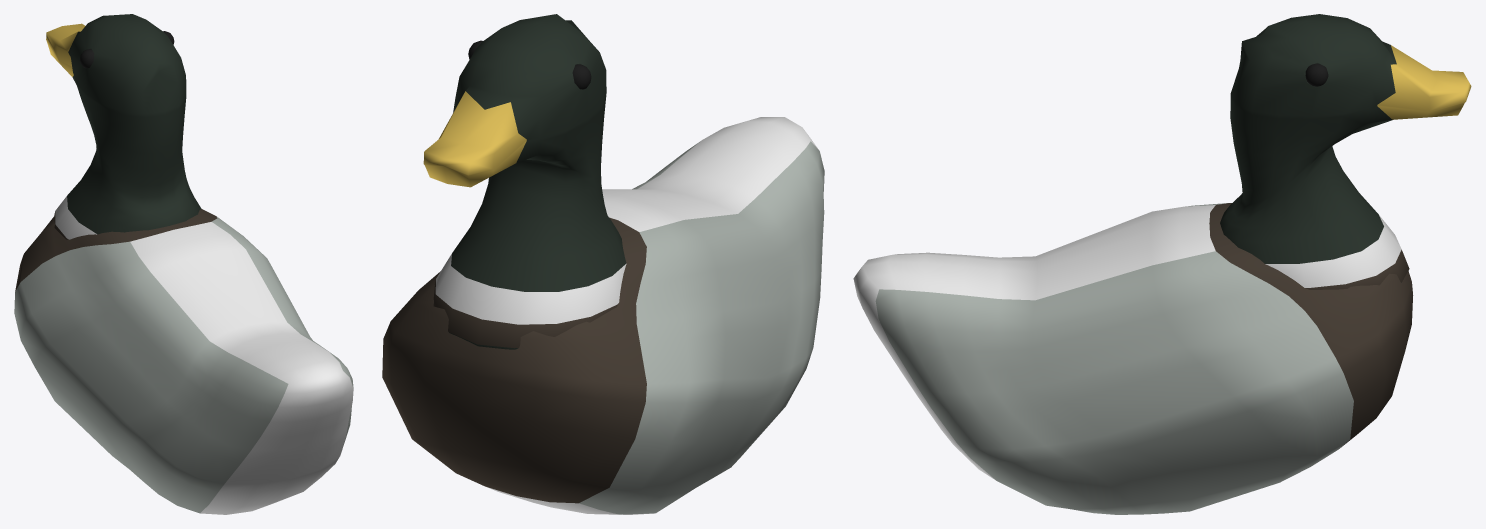
The model's file is Duck_02.fbx.
3 views of the same model, side by side, from view 1: azimuth 30°, elevation 25°; view 2: azimuth 150°, elevation 25°; view 3: azimuth 270°, elevation 25° (orthographic). The views are drawn at different scales.
Parts seen in each view (by area): view 1: polySurface4; view 2: polySurface4; view 3: polySurface4.
Boxes of the visible parts, x1,y1,x2,y2 form: polySurface4: (14,14,353,514); polySurface4: (382,14,824,514); polySurface4: (853,14,1471,514).
Size of the model in its own units: 0.0722 by 0.1233 by 0.144.
